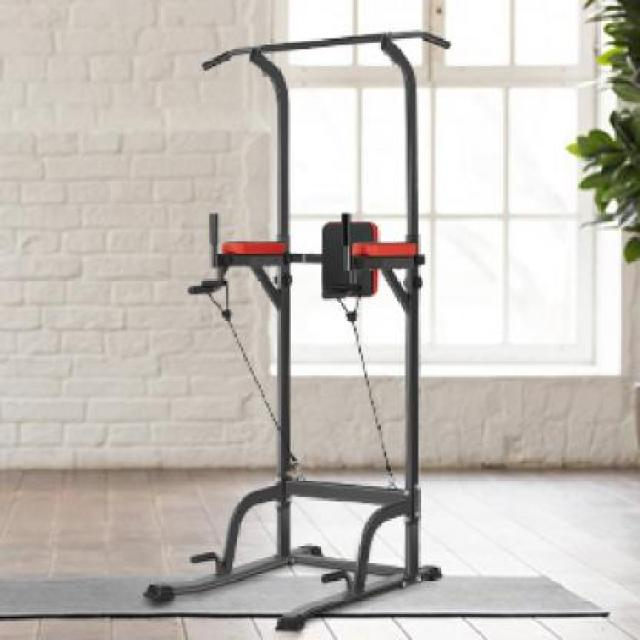chinning dipping: (145, 29, 452, 628)
